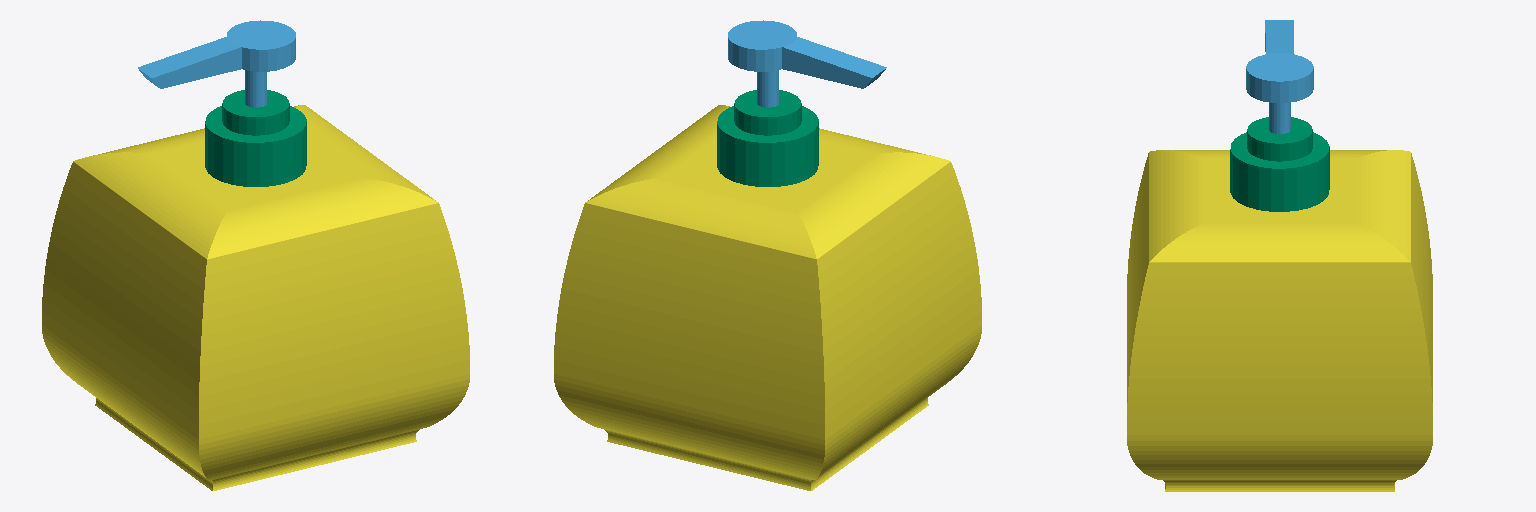
URDF robot description (partnet_af3763054969179d5a539e595e9e07ce):
<?xml version="1.0" ?>
<robot name="partnet_af3763054969179d5a539e595e9e07ce">
	<link name="base"/>
	<link name="link_0">
		<visual name="pressing_lid-1">
			<origin xyz="-0.001048913938219064 0 0.0018129177996702261"/>
			<geometry>
				<mesh filename="textured_objs/original-3.obj" scale="0.18 0.18 0.18"/>
			</geometry>
		</visual>
		<collision>
			<origin xyz="-0.001048913938219064 0 0.0018129177996702261"/>
			<geometry>
				<mesh filename="textured_objs/original-3.obj" scale="0.18 0.18 0.18"/>
			</geometry>
		</collision>
	</link>
	<joint name="joint_0_fixed" type="fixed">
		<origin xyz="0.0 0 0.0"/>
		<axis xyz="0 1 0"/>
		<child link="link_0"/>
		<parent link="link_0_helper"/>
	</joint>
	<link name="link_1">
		<visual name="head-3">
			<origin xyz="-0.0010489139382190626 0 0.0018129177996702266"/>
			<geometry>
				<mesh filename="textured_objs/original-2.obj" scale="0.18 0.18 0.18"/>
			</geometry>
		</visual>
		<collision>
			<origin xyz="-0.0010489139382190626 0 0.0018129177996702266"/>
			<geometry>
				<mesh filename="textured_objs/original-2.obj" scale="0.18 0.18 0.18"/>
			</geometry>
		</collision>
	</link>
	<joint name="joint_1_fixed" type="fixed">
		<origin xyz="0.0 0 0.0"/>
		<axis xyz="0 1 0"/>
		<child link="link_1"/>
		<parent link="link_1_helper"/>
	</joint>
	<link name="link_2">
		<visual name="base_body-4">
			<origin xyz="0 0 0"/>
			<geometry>
				<mesh filename="textured_objs/original-1.obj" scale="0.18 0.18 0.18"/>
			</geometry>
		</visual>
		<collision>
			<origin xyz="0 0 0"/>
			<geometry>
				<mesh filename="textured_objs/original-1.obj" scale="0.18 0.18 0.18"/>
			</geometry>
		</collision>
	</link>
	<joint name="joint_2_fixed" type="fixed">
		<origin rpy="1.570796326794897 0 -1.570796326794897" xyz="0 0 0"/>
		<child link="link_2"/>
		<parent link="base"/>
	</joint>
	<link name="link_0_helper"/>
	<joint name="joint_0" type="prismatic">
		<origin xyz="1.248880882543081e-18 0 6.244404412715405e-19"/>
		<axis xyz="0 -1 0"/>
		<child link="link_0_helper"/>
		<parent link="link_1"/>
		<limit lower="0" upper="0.175"/>
	</joint>
	<link name="link_1_helper"/>
	<joint name="joint_4_fixed" type="fixed">
		<origin xyz="0.0010489139382190626 0 -0.0018129177996702266"/>
		<axis xyz="0 1 0"/>
		<child link="link_1_helper"/>
		<parent link="link_2"/>
	</joint>
</robot>

--- Facts derived from the render (not from the file) ---
Views: 3 orthographic renders of the robot side by side, from view 1: azimuth 30°, elevation 25°; view 2: azimuth 150°, elevation 25°; view 3: azimuth 270°, elevation 25°.
Robot: partnet_af3763054969179d5a539e595e9e07ce — 6 links, 5 joints (1 prismatic, 4 fixed); root link base; default pose: all joints at 0.
Visible links, largest first — view 1: link_2, link_1, link_0; view 2: link_2, link_1, link_0; view 3: link_2, link_1, link_0.
Boxes of the visible links, bbox=[...] form: link_2: bbox=[42, 105, 469, 490]; link_1: bbox=[205, 90, 306, 186]; link_0: bbox=[138, 20, 295, 107]; link_2: bbox=[554, 105, 981, 490]; link_1: bbox=[717, 90, 818, 186]; link_0: bbox=[728, 20, 886, 107]; link_2: bbox=[1127, 150, 1432, 491]; link_1: bbox=[1230, 117, 1329, 211]; link_0: bbox=[1246, 20, 1313, 133].
Size in the robot's own frame: 0.2061 by 0.2061 by 0.2803 metres.
3 mesh visuals loaded from 3 distinct referenced files (3 OBJ).